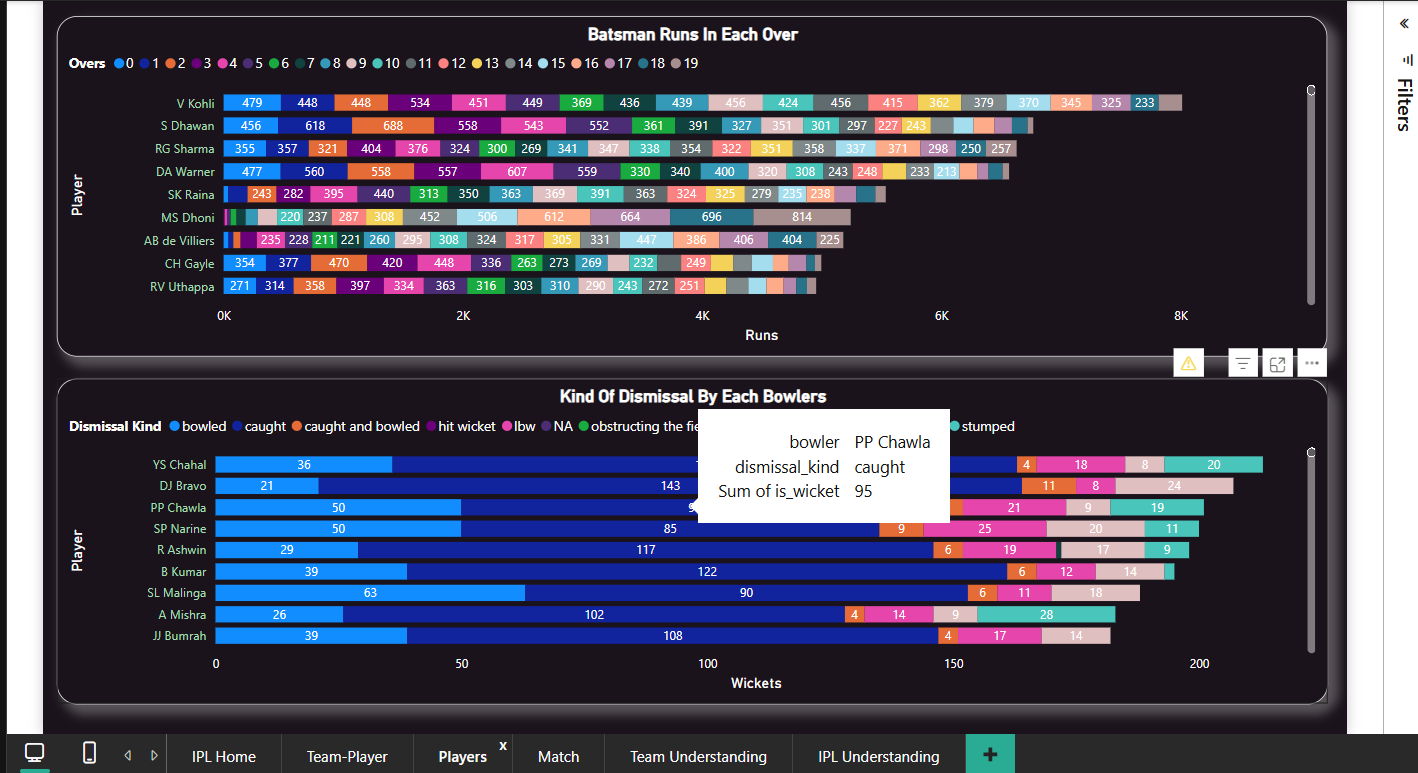

The page's visual inventory and layout, read from the dashboard file:
{"tool":"powerbi","page":{"name":"Players","canvas":[1280,720],"ordinal":2},"visuals":[{"type":"barChart","title":"Batsman Runs In Each Over","fields":{"Category":["deliveries.batter"],"Y":["deliveries.batsman_runs"],"Series":["deliveries.over"]},"box":[13.3,14.5,1247.5,334.2],"z":0},{"type":"barChart","title":"Kind Of Dismissal By Each Bowlers","fields":{"Category":["deliveries.bowler"],"Y":["deliveries.is_wicket"],"Series":["deliveries.dismissal_kind"]},"box":[13.3,370,1247.8,320],"z":1002}]}

Visuals, with their boxes on the page's 1280x720 design canvas (x1, y1, x2, y2). These are canvas units, not pixel positions in the 1418x773 screenshot, which may show the page scaled, cropped or inside an application window:
"Batsman Runs In Each Over" barChart: [13, 14, 1261, 349]
"Kind Of Dismissal By Each Bowlers" barChart: [13, 370, 1261, 690]
